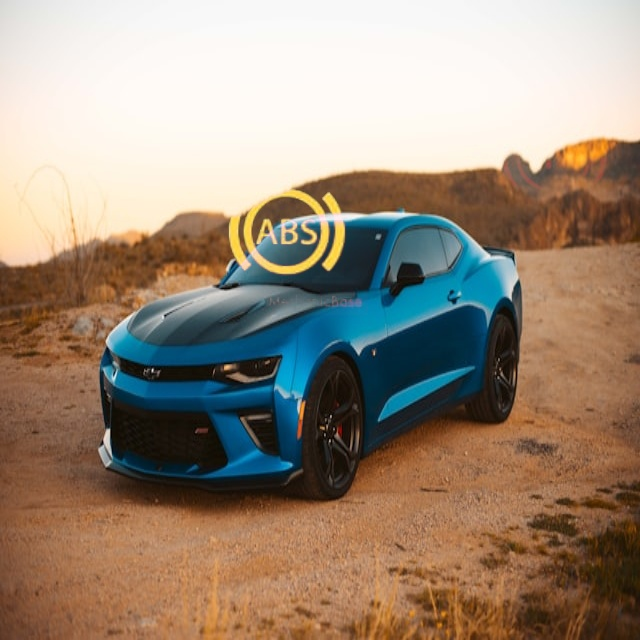symbol: (158, 33, 325, 200), (204, 151, 368, 315), (476, 79, 630, 233)
